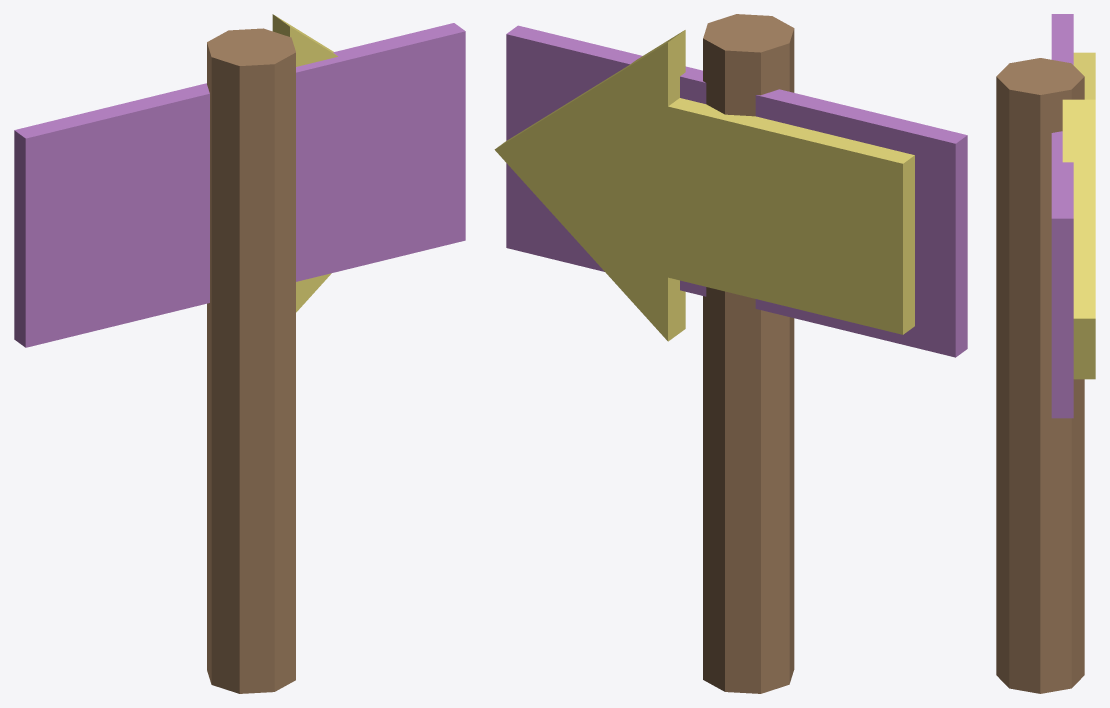
File: Deco_Signpost.fbx
The picture shows the model from 3 angles, left to right: view 1: azimuth 30°, elevation 25°; view 2: azimuth 150°, elevation 25°; view 3: azimuth 270°, elevation 25°; orthographic projection. The views are drawn at different scales.
Parts seen in each view (by area): view 1: Deco_Signpost_Backing, Deco_Signpost_Post, Deco_Signpost_Arrow; view 2: Deco_Signpost_Arrow, Deco_Signpost_Post, Deco_Signpost_Backing; view 3: Deco_Signpost_Post, Deco_Signpost_Arrow, Deco_Signpost_Backing.
Part boxes in pixels (x1,y1,x2,y2): Deco_Signpost_Backing: [14, 23, 465, 347]; Deco_Signpost_Post: [207, 28, 295, 693]; Deco_Signpost_Arrow: [272, 14, 337, 312]; Deco_Signpost_Arrow: [494, 30, 914, 341]; Deco_Signpost_Post: [703, 14, 794, 693]; Deco_Signpost_Backing: [506, 25, 967, 357]; Deco_Signpost_Post: [996, 58, 1084, 693]; Deco_Signpost_Arrow: [1062, 52, 1095, 379]; Deco_Signpost_Backing: [1051, 14, 1073, 418].
Size of the model in its own units: 0.44 by 0.6 by 0.09.
